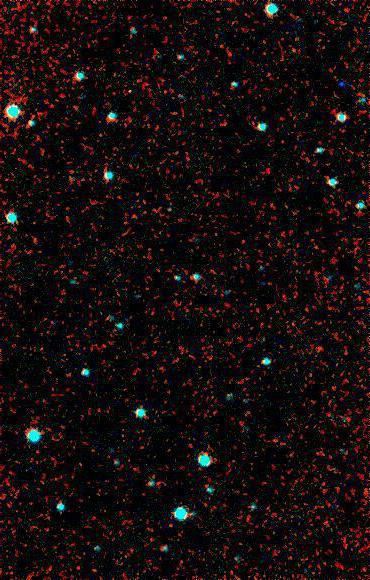star: (327, 74, 357, 104)
